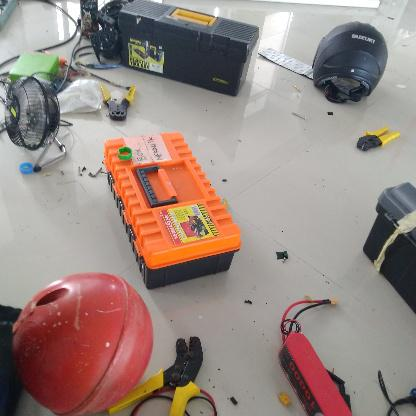red_buoy: (13, 270, 154, 414)
